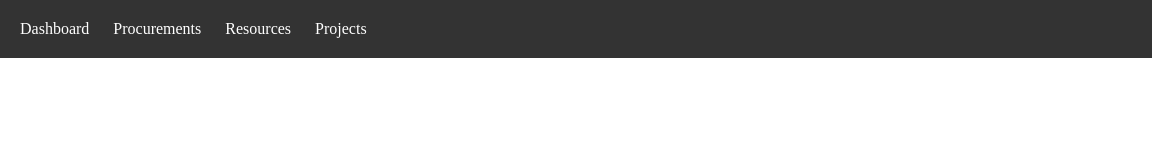
Test: User click on dashboard renders dashboard page
The image size is (1152, 160).
Click the link "Dashboard".
click(55, 29)  # box left=16, top=16, right=93, bottom=42
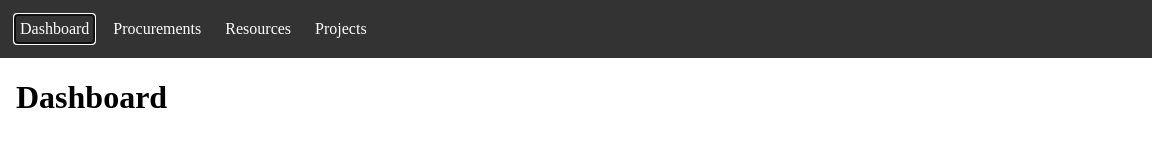
Expected: the heading reads "Dashboard", left=16, top=79, right=167, bottom=115
